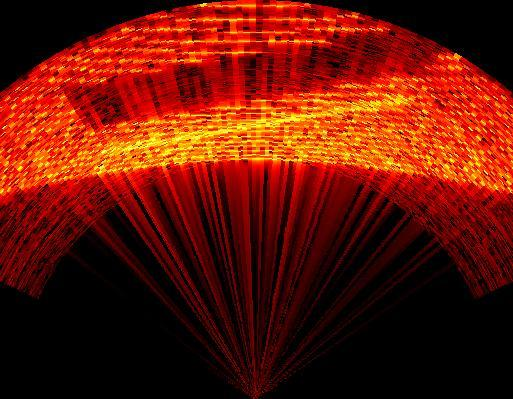pipe: (66, 34, 445, 132)
